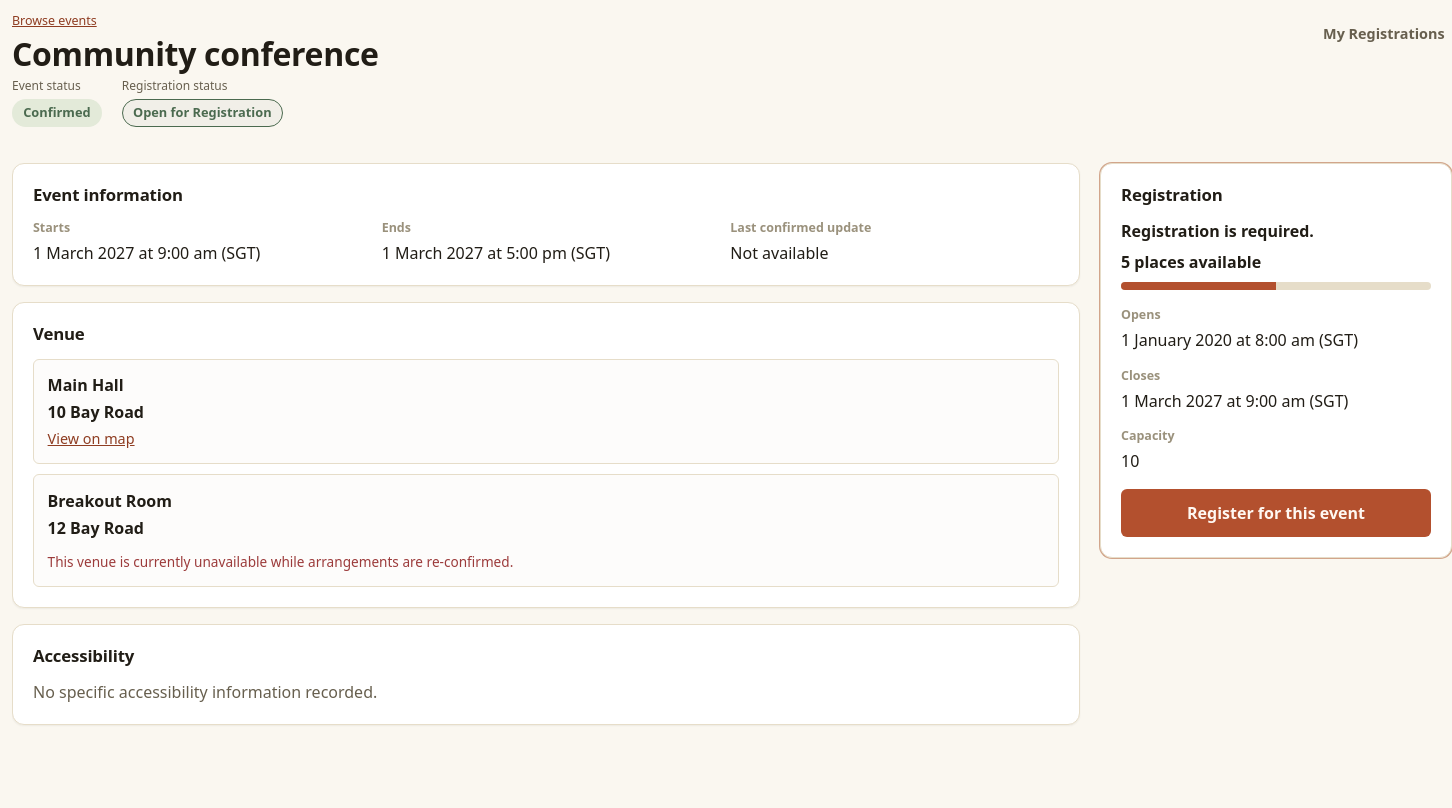
Scenario: AT09 AT03 registration confirmation › AT03 AT01 (happy): success loads its owned confirmation and refreshes authoritative capacity
Click the button "Register for this event" at (1276, 513), box [1121,489,1431,537]
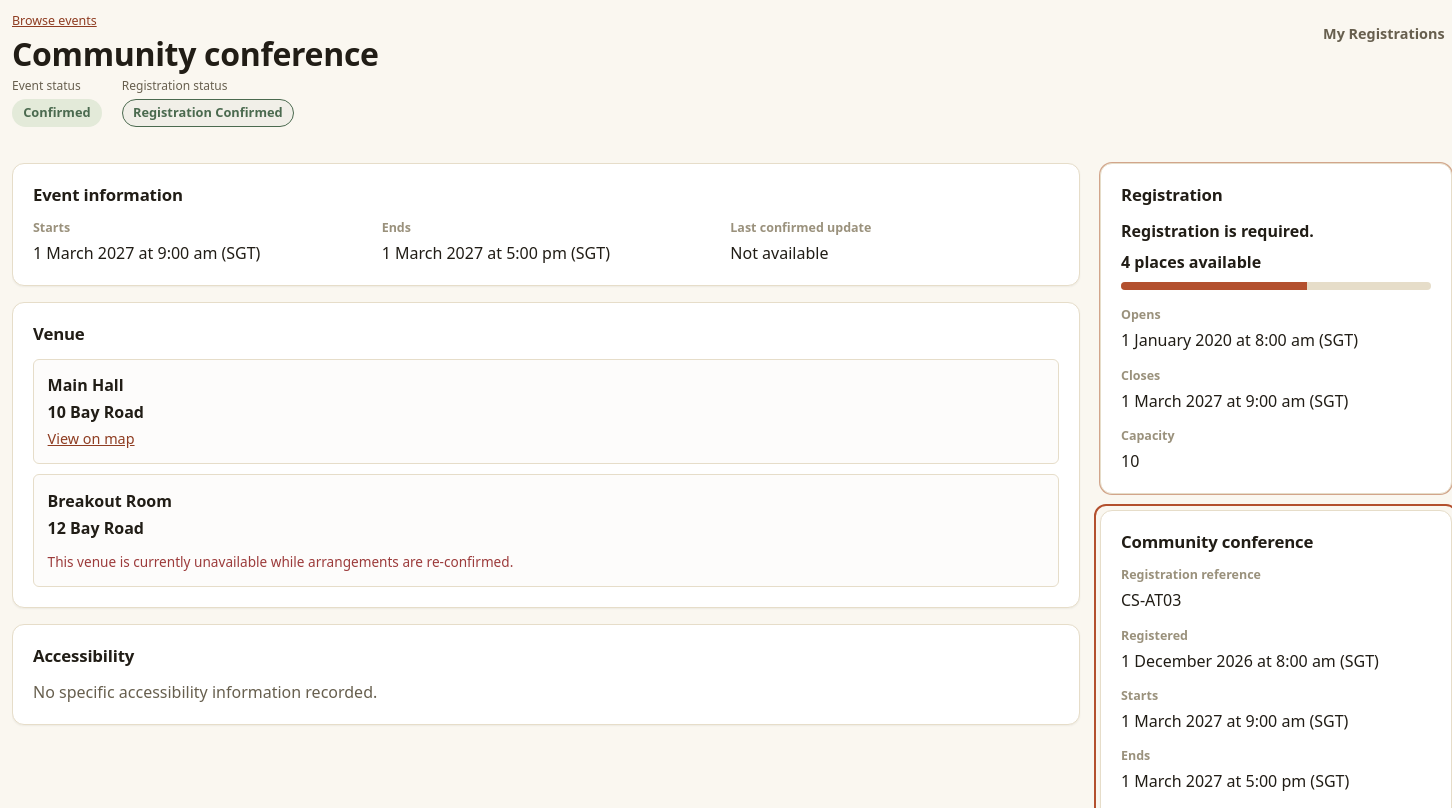
Result: the text "CS-AT03" is shown at [1121,589,1181,611]
Result: the text "4 places available" is shown at [1121,251,1261,273]
